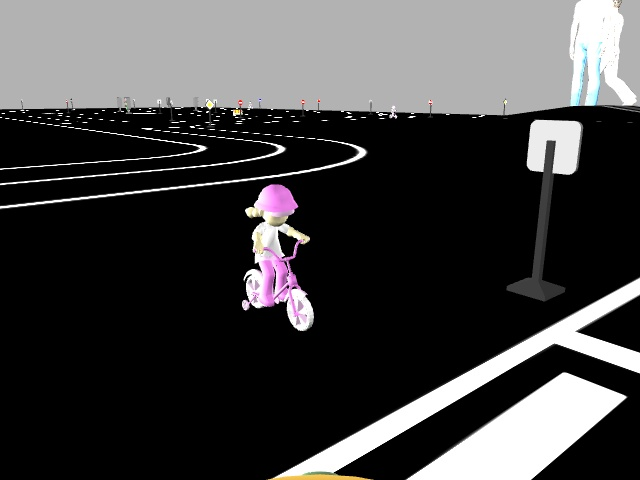Pedestrian: (234, 178, 318, 337)
